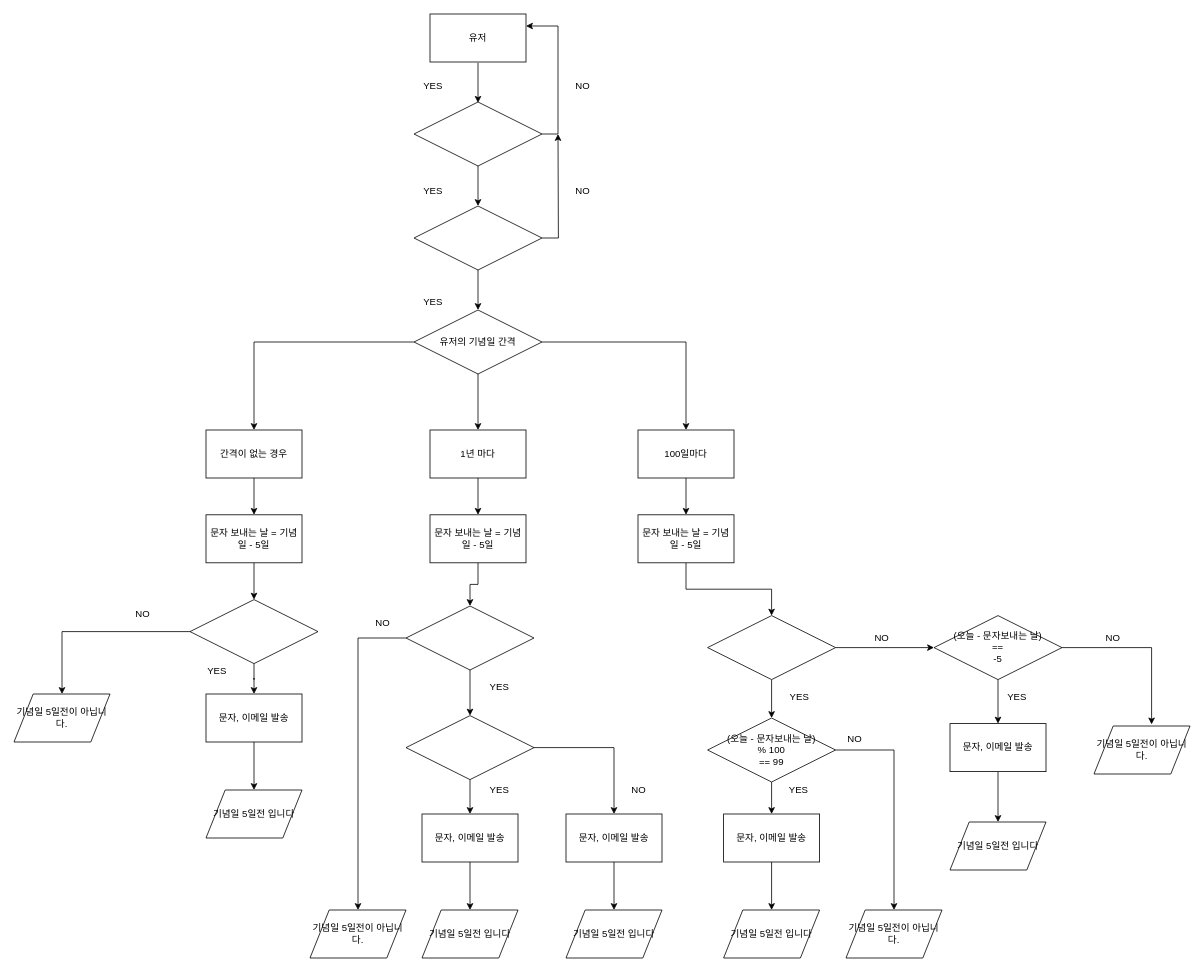
Some shapes in this 1204 by 972 pixel diagram are drawn without their labels. The centre of each missing label's shape, as x and y in pixels:
문자 보내는 날(년,월,일) == 오늘(년,월,일): the point at 253,631
문자 보내는 날(월,일) == 오늘(월,일): the point at 469,637
오늘 - 문자보내는 날 > 0: the point at 771,647
오늘(년) - 문자 보내는 날(년) > 0: the point at 469,747
유저의 기념일 리스트: the point at 477,237
유저의 뉴스레터: the point at 477,133
